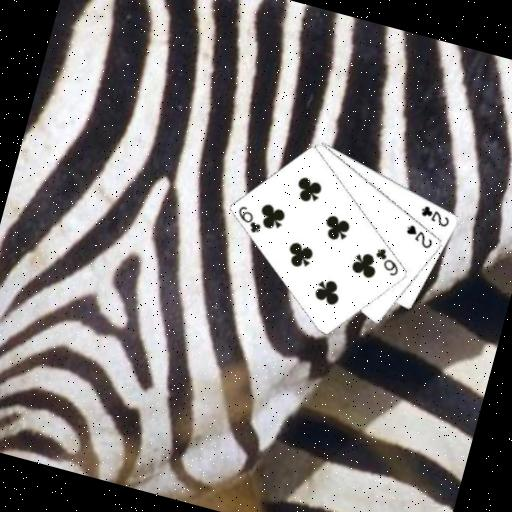2C: (416, 201, 454, 229)
2S: (400, 220, 437, 251)
6C: (368, 244, 405, 279), (231, 202, 267, 236)
